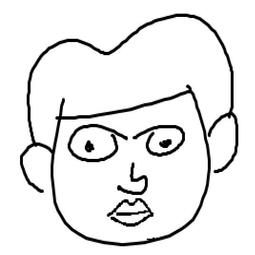cupid_mouth: (102, 197, 171, 229)
ear: (201, 113, 244, 175), (17, 141, 61, 193)
eye: (62, 124, 120, 163), (143, 119, 186, 160)
nose: (116, 160, 151, 197)
